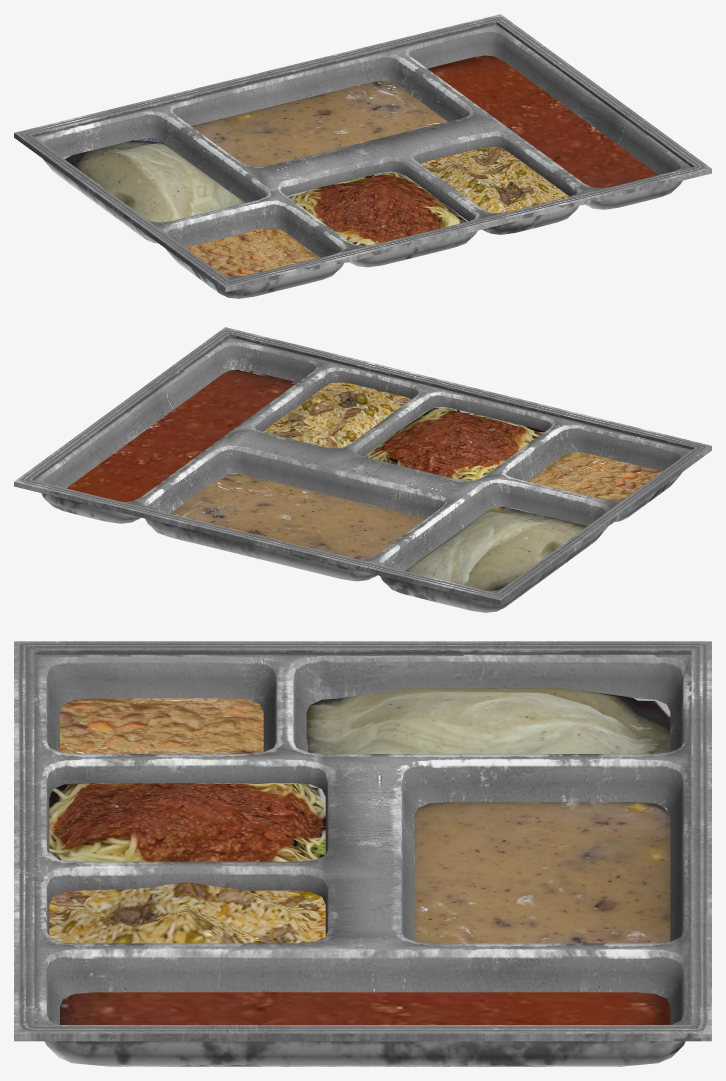
File: SM_Foodtray_Full.fbx
The picture shows the model from 3 angles, top to bottom: view 1: azimuth 30°, elevation 25°; view 2: azimuth 150°, elevation 25°; view 3: azimuth 270°, elevation 25°; orthographic projection. The views are drawn at different scales.
Parts seen in each view (by area): view 1: SM_Foodtray_Full; view 2: SM_Foodtray_Full; view 3: SM_Foodtray_Full.
Boxes of the visible parts, x1,y1,x2,y2 form: SM_Foodtray_Full: [14, 14, 711, 298]; SM_Foodtray_Full: [14, 327, 711, 612]; SM_Foodtray_Full: [14, 641, 711, 1066].
Size of the model in its own units: 53.51 by 40.23 by 4.4.
Materials: 1 (1 with a texture image).
